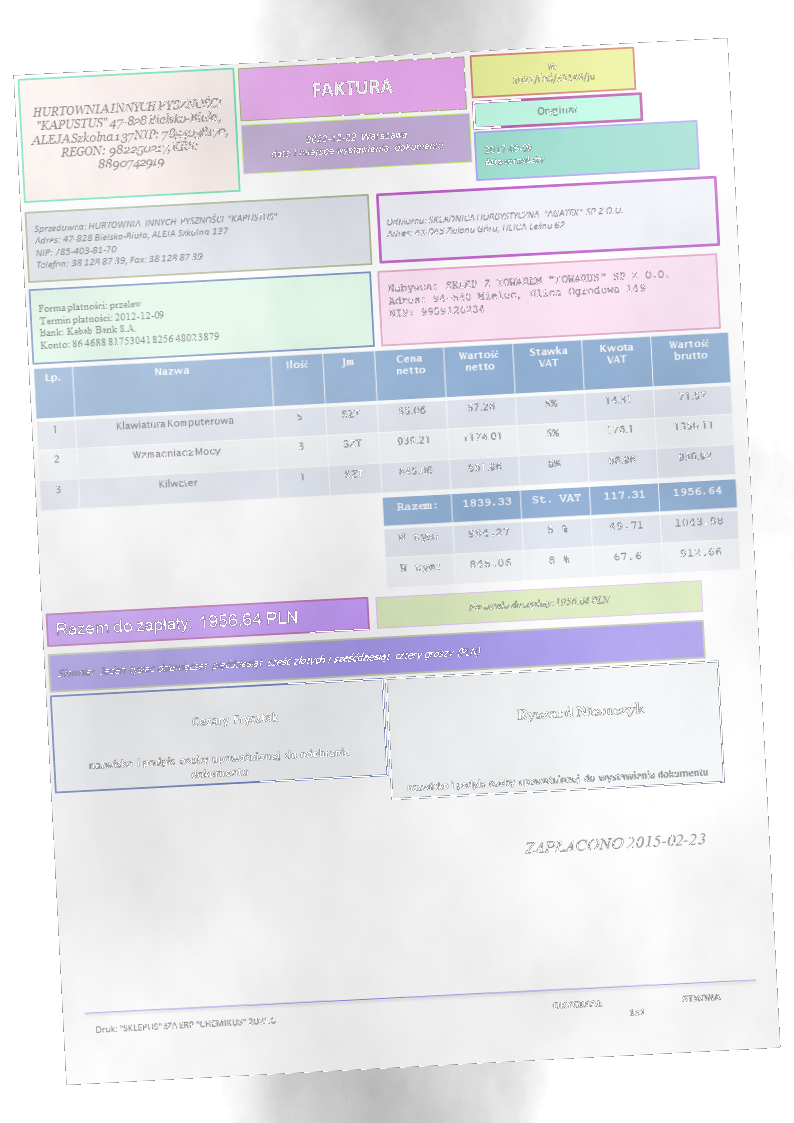Table: (32, 330, 737, 512), (381, 478, 743, 589)
TextBox: (27, 94, 233, 177), (56, 644, 483, 682), (31, 210, 282, 273), (385, 266, 674, 320), (36, 292, 222, 352), (85, 745, 353, 785), (404, 765, 710, 796), (383, 201, 626, 240), (53, 607, 300, 641), (269, 126, 446, 161), (549, 990, 724, 1023), (522, 830, 708, 856), (93, 1014, 278, 1037), (515, 699, 646, 723), (466, 592, 613, 613), (510, 59, 597, 88), (310, 75, 395, 101), (481, 140, 546, 169), (191, 710, 280, 730), (535, 102, 579, 118)
